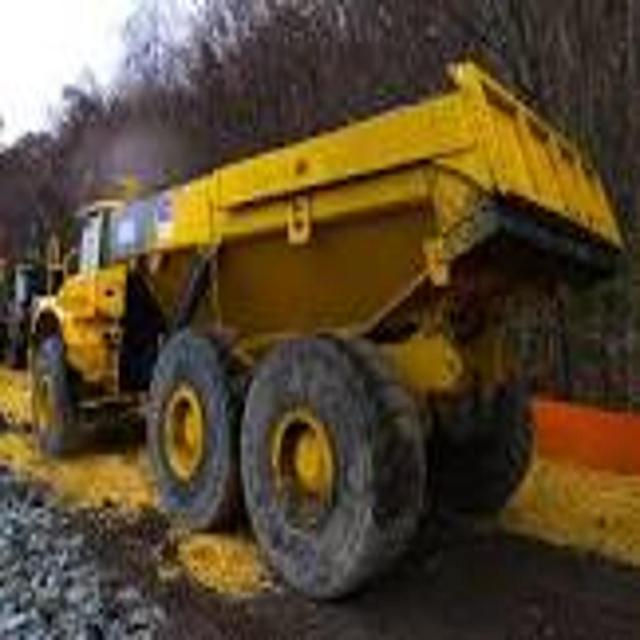dump_truck: (27, 57, 626, 603)
